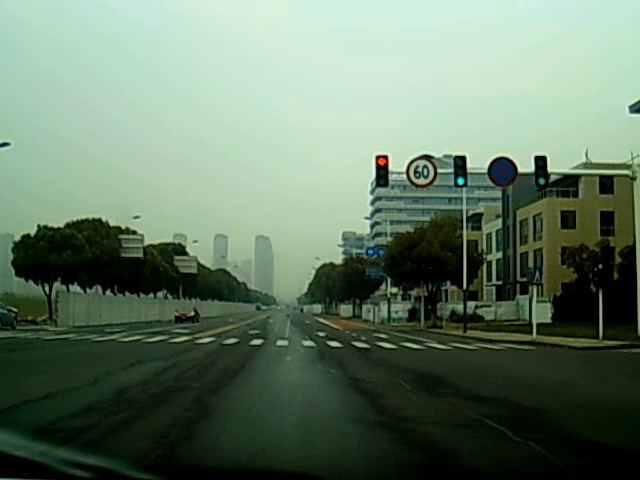Traffic_Light_go: (452, 157, 468, 189), (534, 156, 548, 192)
Traffic_Light_stop: (375, 155, 387, 186)
